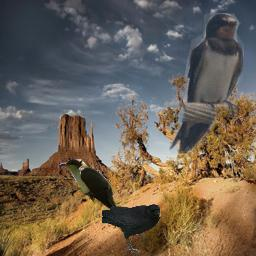Crow: (102, 204, 161, 253)
Cuckoo: (57, 159, 123, 225)
Swallow: (169, 13, 244, 154)
